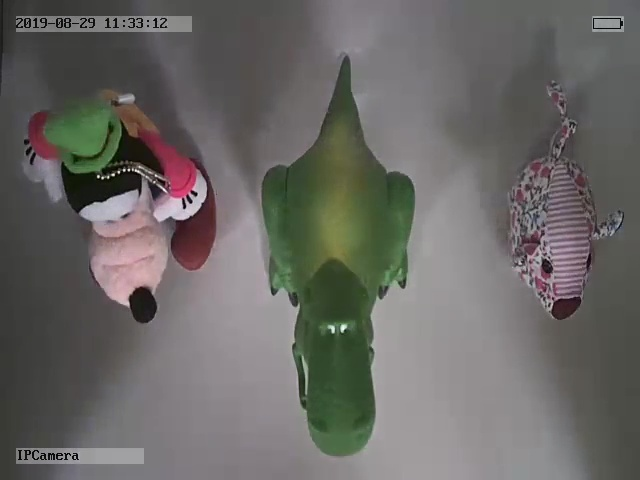goofy: (21, 86, 215, 325)
pig: (503, 79, 622, 320)
rex: (257, 55, 418, 459)
